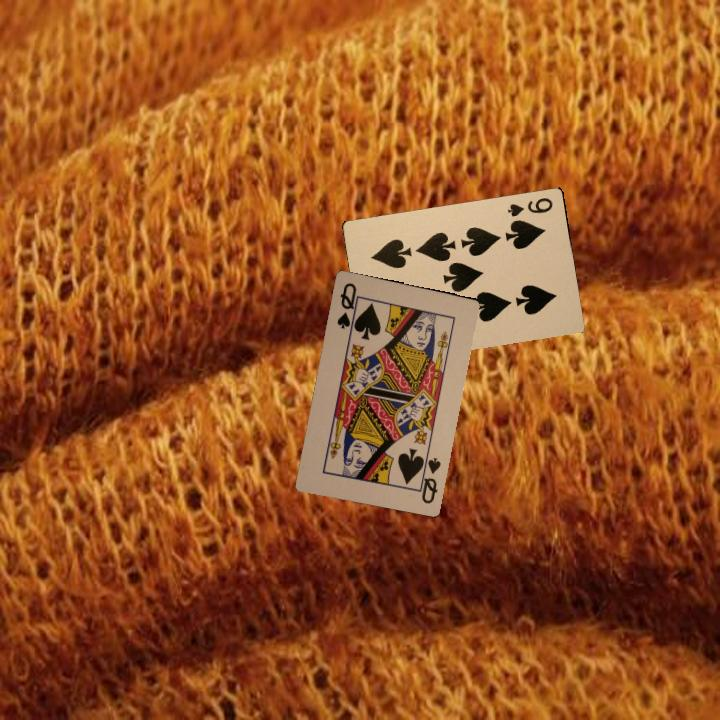9s: (503, 194, 555, 219)
Qs: (413, 452, 443, 506), (333, 279, 361, 334)
